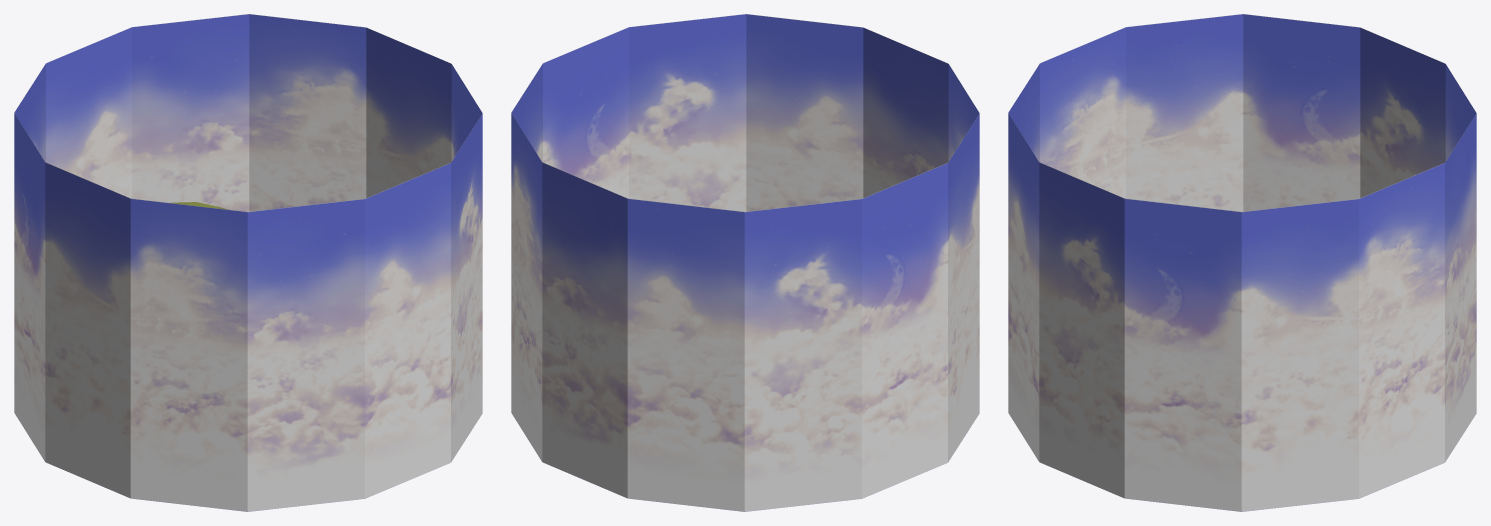
File: wiz_wiz_1.glb
3 renders of one model, left to right at view 1: azimuth 30°, elevation 25°; view 2: azimuth 150°, elevation 25°; view 3: azimuth 270°, elevation 25°, orthographic.
Visible parts, largest first — view 1: export.001; view 2: export.001; view 3: export.001.
Part boxes in pixels (x1,y1,x2,y2): export.001: [14, 14, 482, 511]; export.001: [511, 14, 979, 511]; export.001: [1008, 14, 1476, 511].
Bounding box in the file's own units: 1714 × 1211 × 1714.
Materials: 58 (58 with a texture image).
